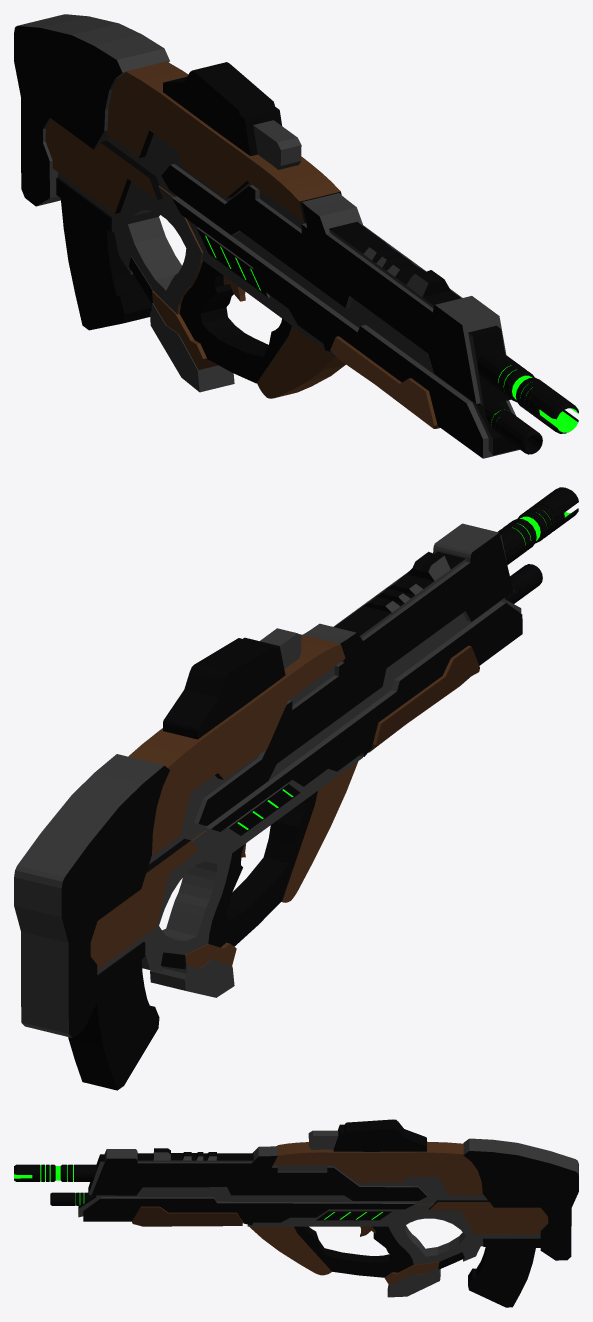
Rendered from rifle.fbx.
The picture shows the model from 3 angles, top to bottom: view 1: azimuth 30°, elevation 25°; view 2: azimuth 150°, elevation 25°; view 3: azimuth 270°, elevation 25°; orthographic projection. The views are drawn at different scales.
Parts seen in each view (by area): view 1: rifle, barrel; view 2: rifle, barrel; view 3: rifle, barrel.
Part boxes in pixels (bbox=[...]): rifle: bbox=[14, 14, 542, 458]; barrel: bbox=[478, 348, 578, 433]; rifle: bbox=[14, 523, 542, 1090]; barrel: bbox=[498, 487, 578, 564]; rifle: bbox=[50, 1119, 578, 1307]; barrel: bbox=[14, 1164, 97, 1181].
Size of the model in its own units: 12.02 by 80.87 by 231.
